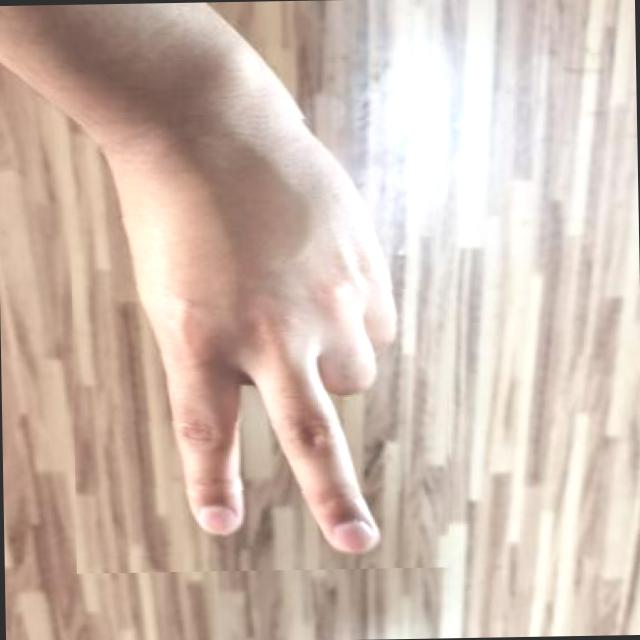N: (68, 109, 456, 573)
